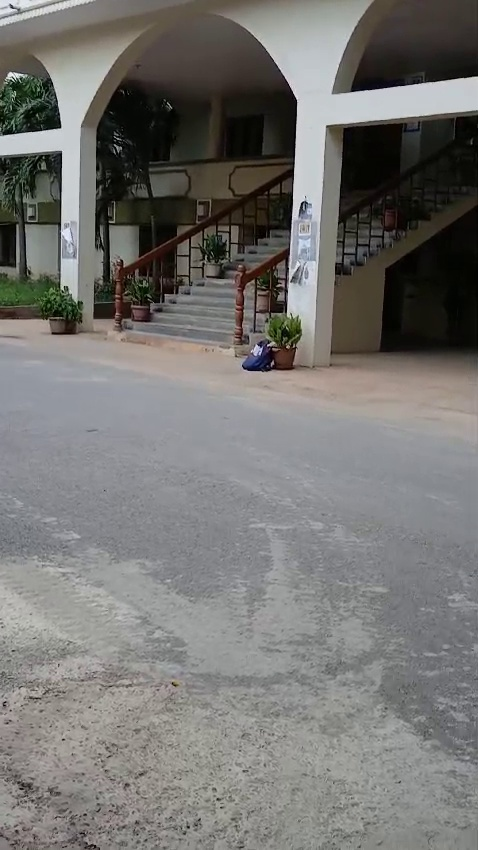bag: (241, 334, 275, 376)
